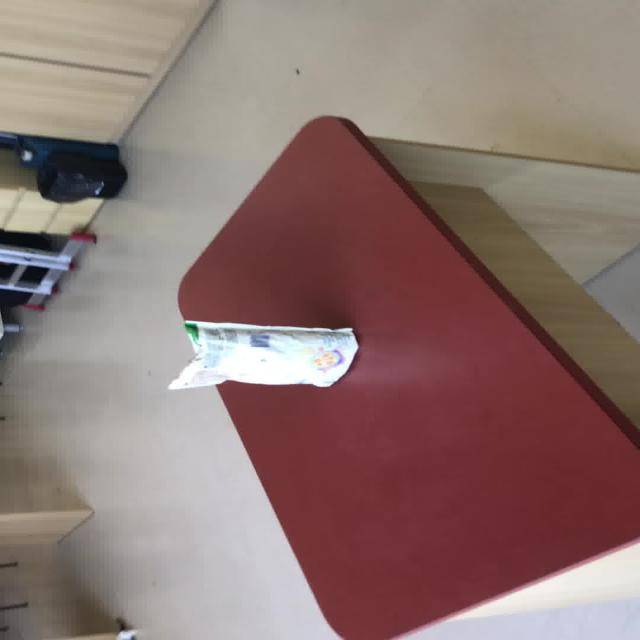corn flakes: (172, 114, 637, 637), (166, 319, 358, 390)
